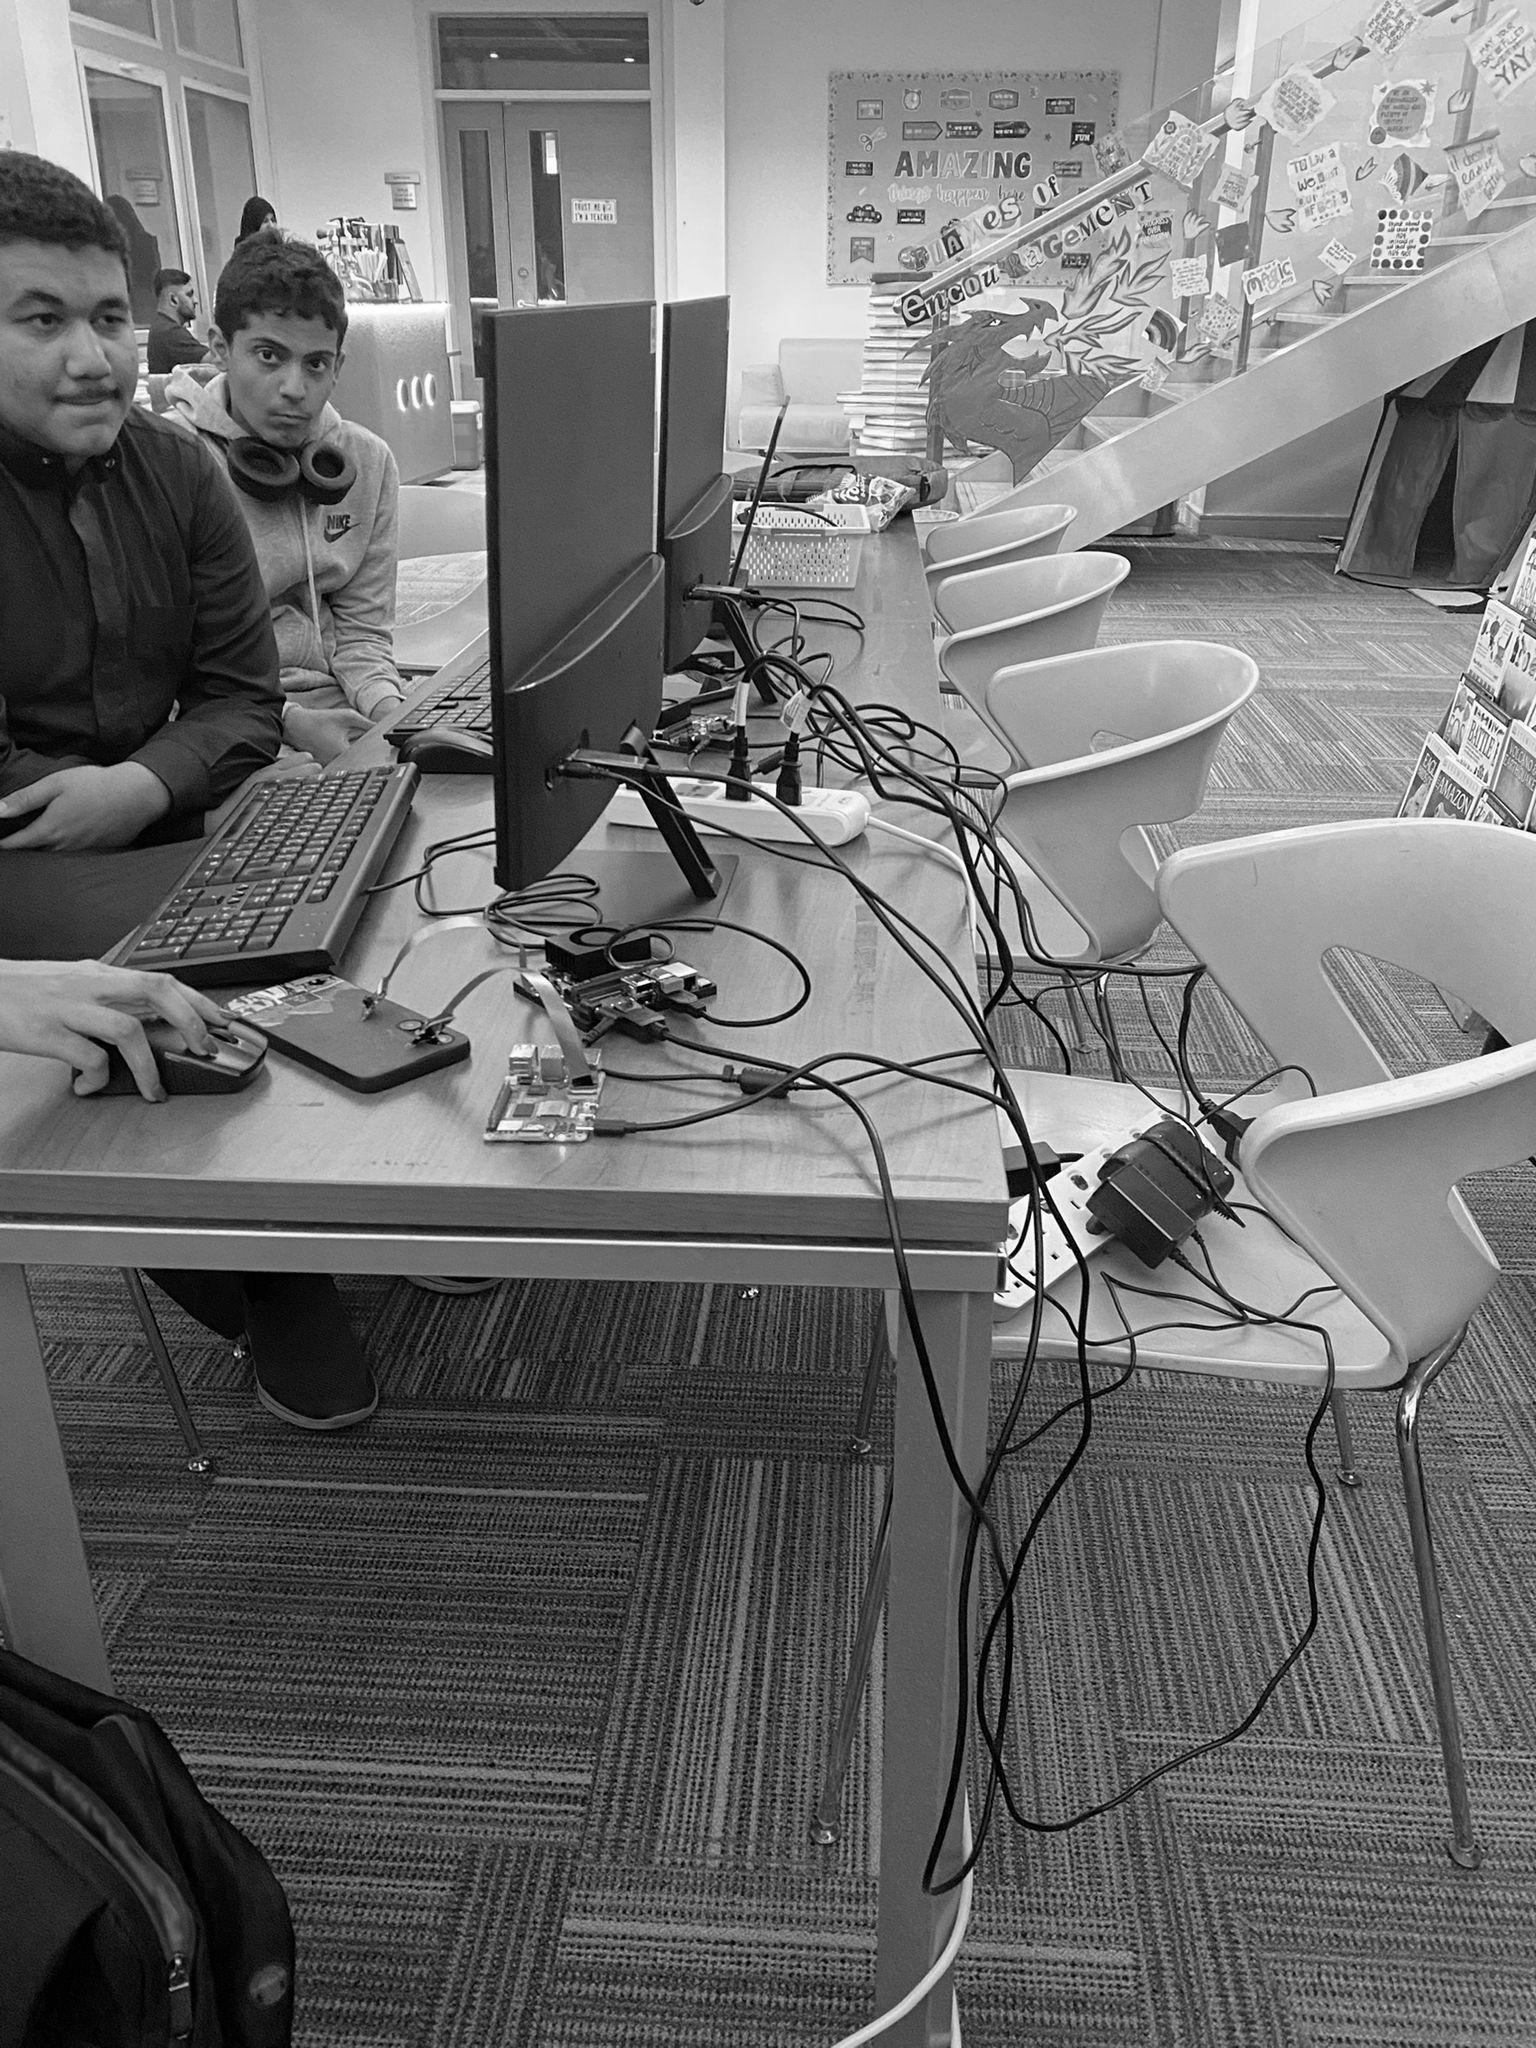Chair: (991, 818, 1534, 1866), (984, 642, 1257, 971), (934, 552, 1129, 782), (1008, 1069, 1167, 1206), (925, 505, 1075, 626)
Table: (0, 974, 895, 1688), (682, 798, 975, 1066), (876, 1332, 970, 2011), (858, 1072, 1007, 1480), (340, 776, 515, 1009), (826, 522, 941, 731), (331, 634, 487, 771), (566, 816, 663, 872), (703, 835, 724, 860)
